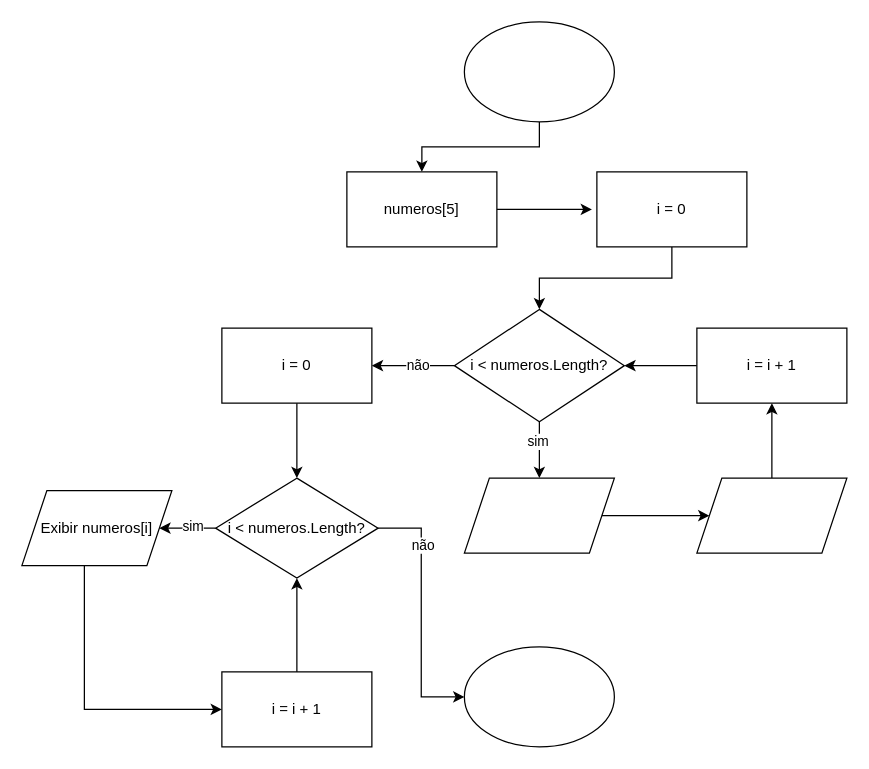
This 869x769 diagram has some shape labels left out. The centre of each missing label's shape, as x and y in pixels:
Exibir "Digite o número " + i: point (538, 515)
Fim: point (538, 696)
Início: point (538, 71)
numeros[i] = ReadLine(): point (771, 515)
